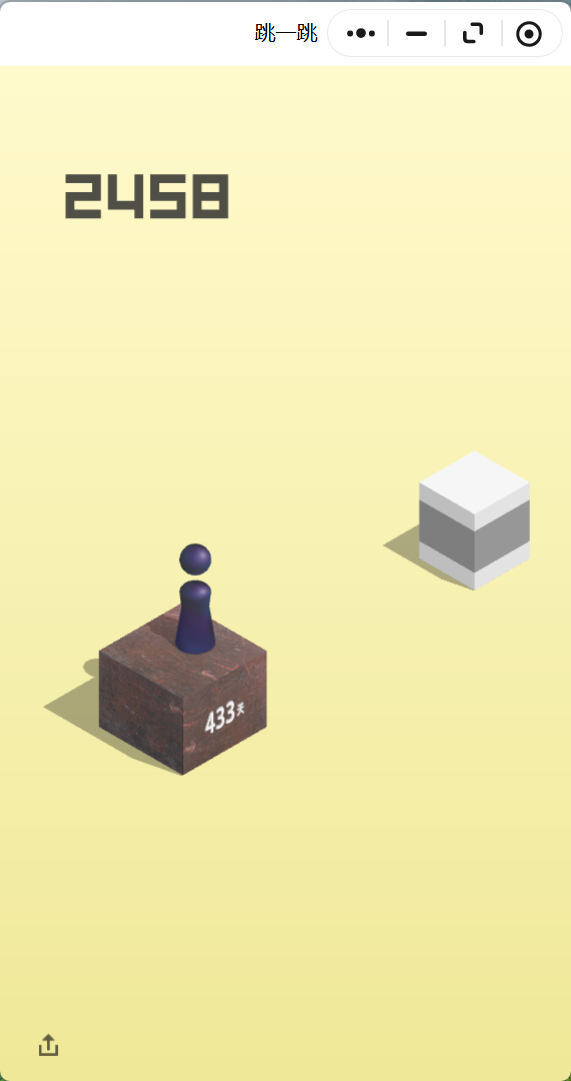piece: (179, 544, 210, 650)
target: (419, 451, 529, 514)
